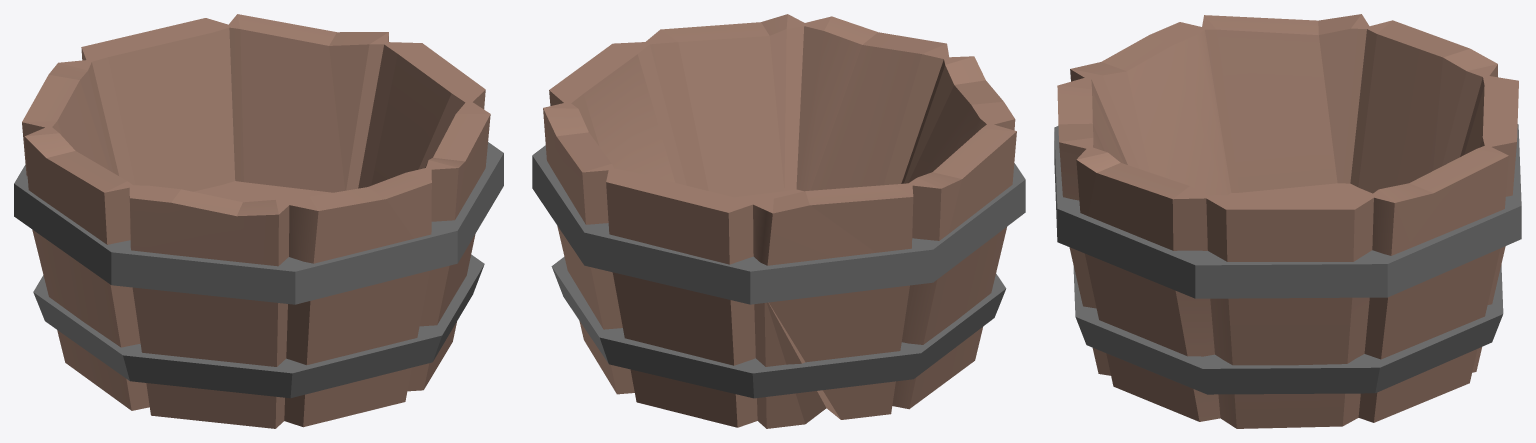
The model's file is Barrel_half.fbx.
The picture shows the model from 3 angles, left to right: view 1: azimuth 30°, elevation 25°; view 2: azimuth 150°, elevation 25°; view 3: azimuth 270°, elevation 25°; orthographic projection.
Visible parts, largest first — view 1: SM_Prop_Barrel_Half_01; view 2: SM_Prop_Barrel_Half_01; view 3: SM_Prop_Barrel_Half_01.
Part boxes in pixels (box(x1,y1,x2,y2)): SM_Prop_Barrel_Half_01: box(14, 14, 503, 428); SM_Prop_Barrel_Half_01: box(532, 14, 1025, 428); SM_Prop_Barrel_Half_01: box(1054, 14, 1521, 428).
Bounding box in the file's own units: 84.25 × 47.58 × 84.25.
